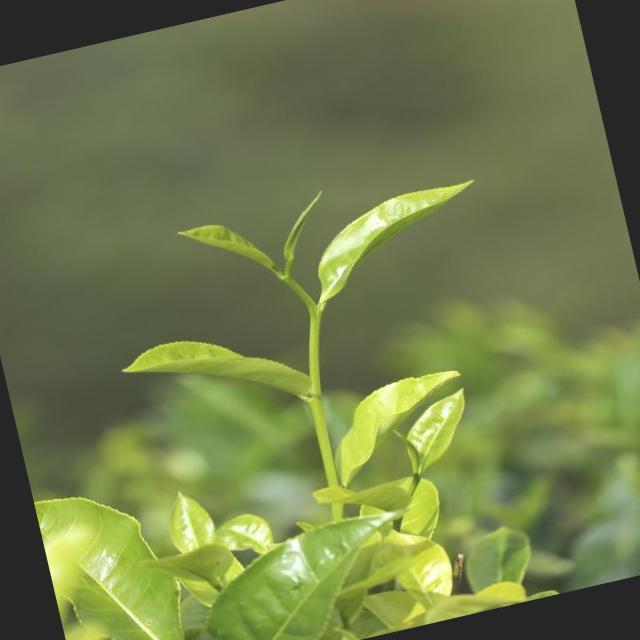Stem: (308, 307, 322, 327)
